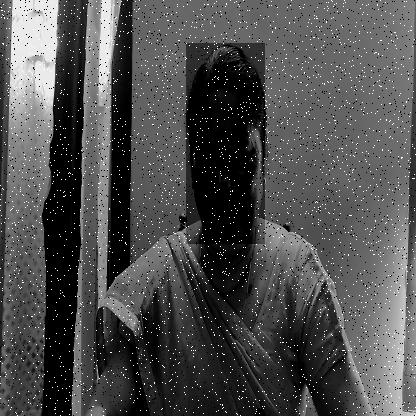Normal: (186, 43, 265, 244)
